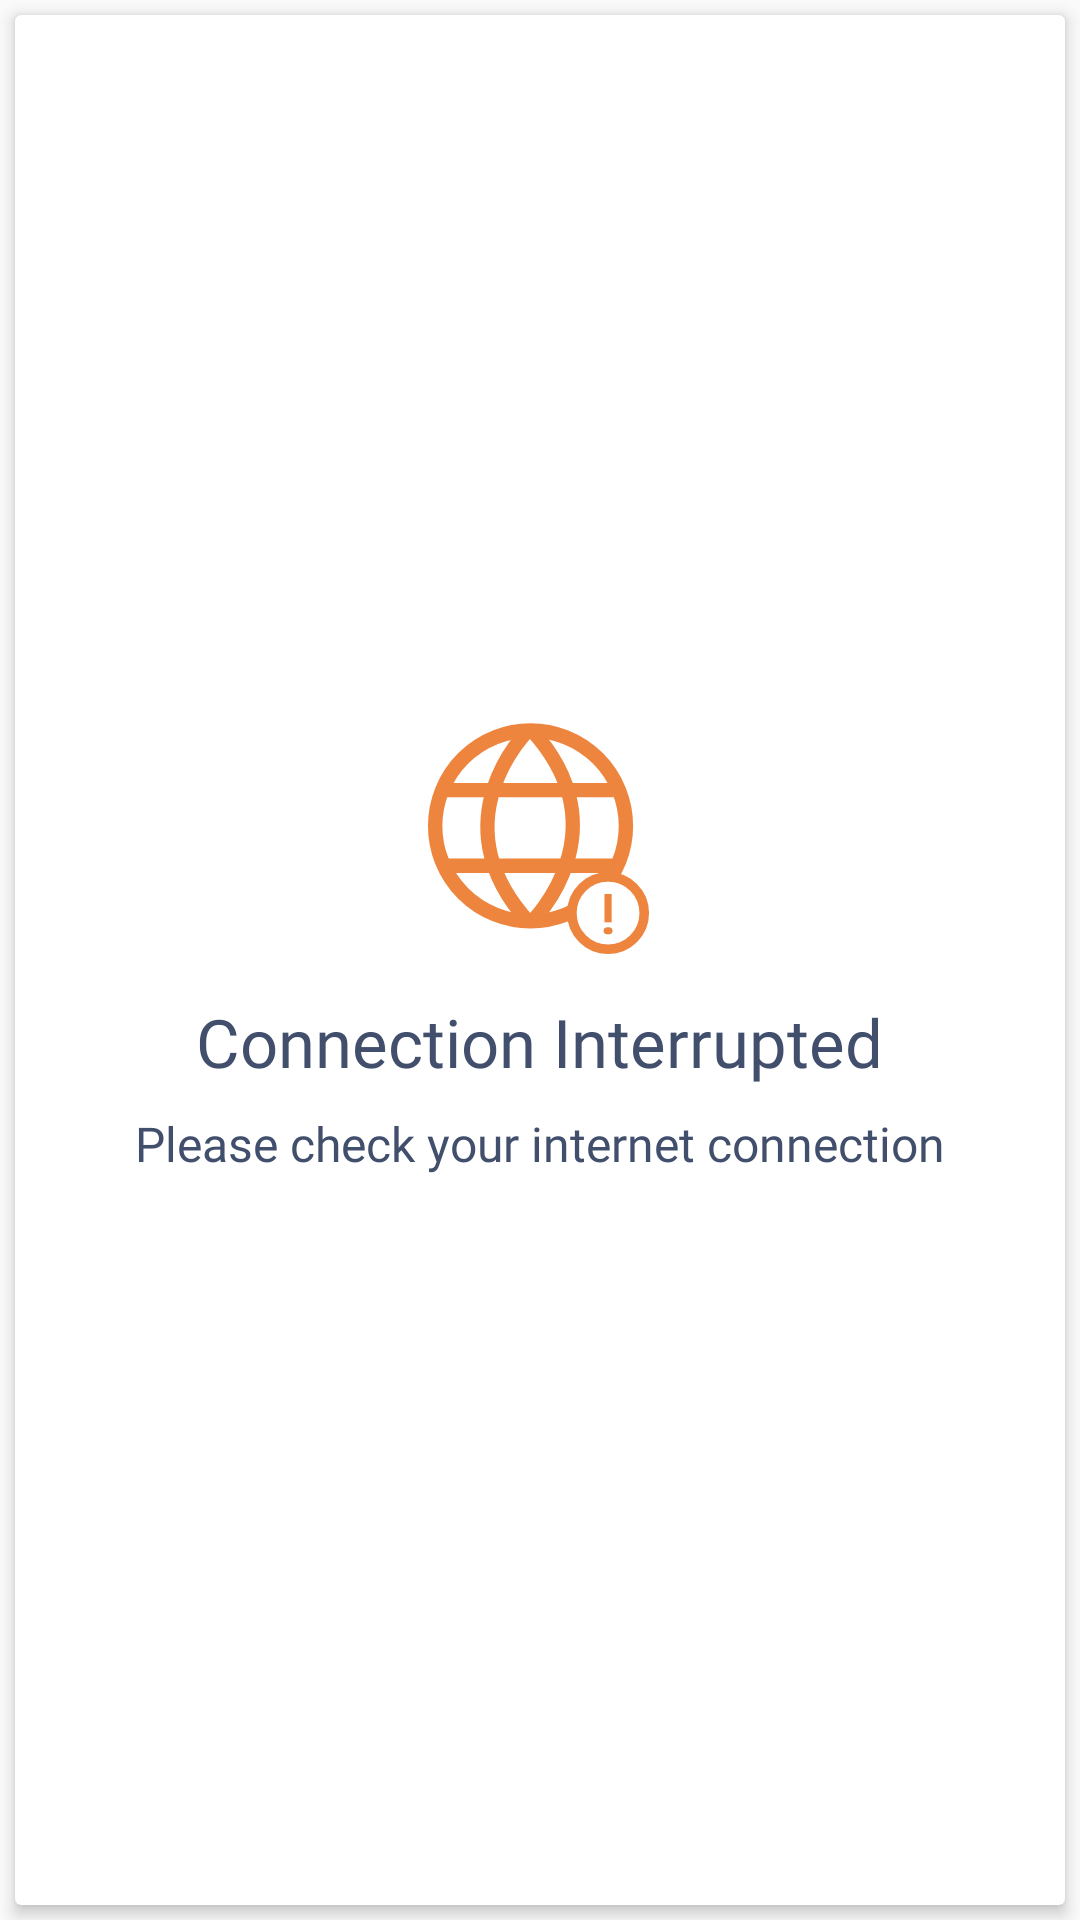

Point at icon controls on the screen. Image size 1080*1920, points as (x=x, y=y).
globe: (x=538, y=838)
